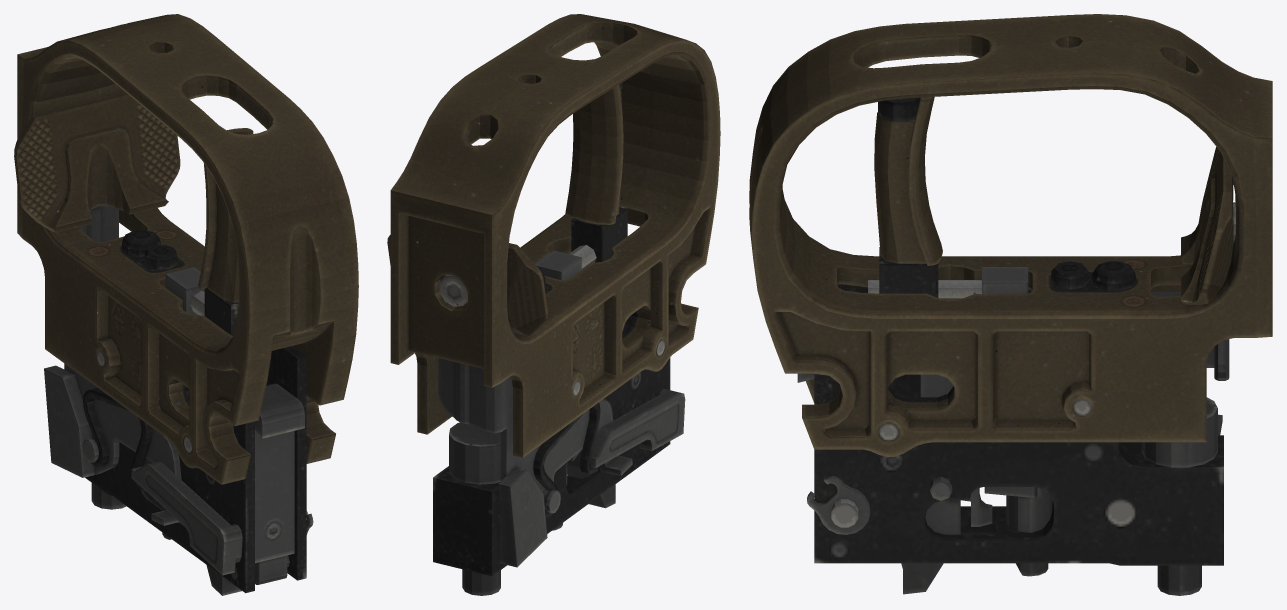
3 views of the same model, side by side, from view 1: azimuth 30°, elevation 25°; view 2: azimuth 150°, elevation 25°; view 3: azimuth 270°, elevation 25° (orthographic). The views are drawn at different scales.
Visible parts, largest first — view 1: TW_673cab3e03c6a20581028bc1_PZ_Import; view 2: TW_673cab3e03c6a20581028bc1_PZ_Import; view 3: TW_673cab3e03c6a20581028bc1_PZ_Import.
Part boxes in pixels (left/top/right/bottom): TW_673cab3e03c6a20581028bc1_PZ_Import: left=14, top=14, right=358, bottom=595; TW_673cab3e03c6a20581028bc1_PZ_Import: left=387, top=14, right=720, bottom=595; TW_673cab3e03c6a20581028bc1_PZ_Import: left=749, top=14, right=1272, bottom=595.
Size of the model in its own units: 0.0156 by 0.0401 by 0.0462.
1 material, 1 textured.
